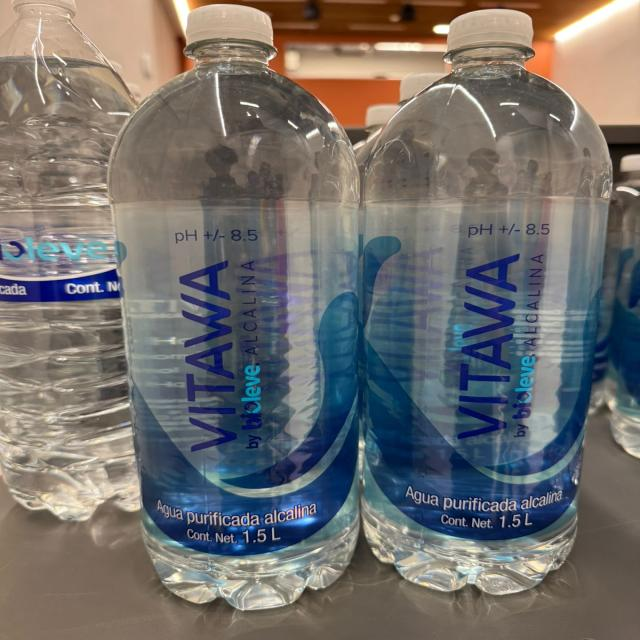AGUA ALCALINA VITAWA 1LT: (136, 7, 393, 621)
